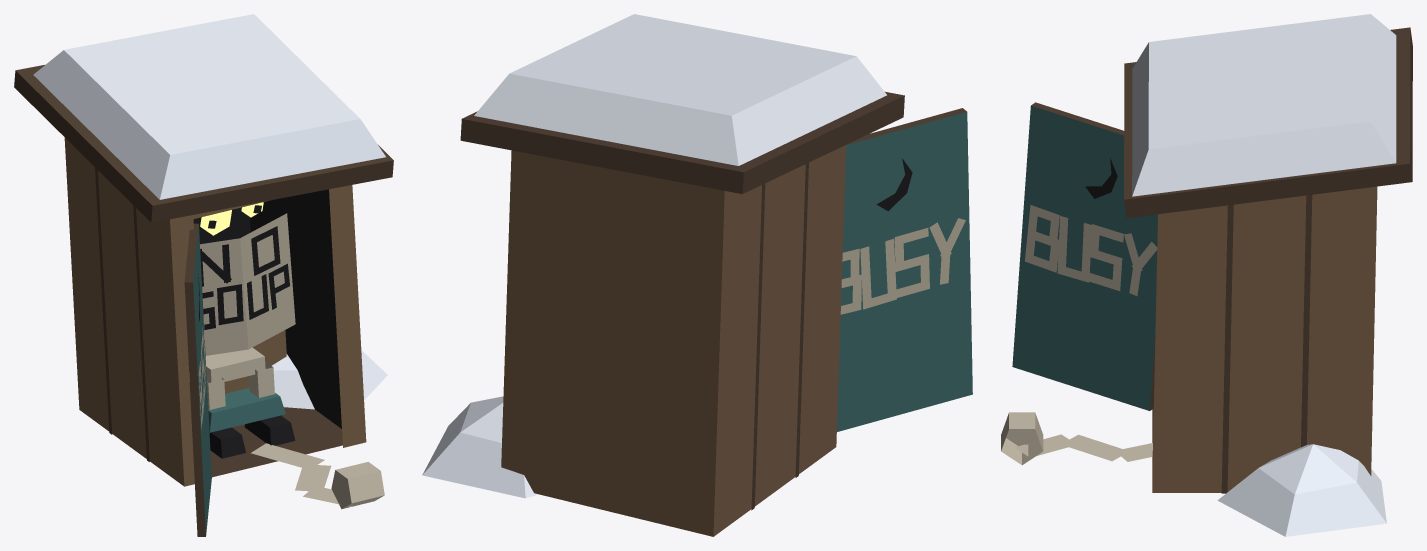
The model's file is gag_outhouse.glb.
The picture shows the model from 3 angles, left to right: view 1: azimuth 30°, elevation 25°; view 2: azimuth 150°, elevation 25°; view 3: azimuth 270°, elevation 25°; orthographic projection. The views are drawn at different scales.
Visible parts, largest first — view 1: Scenery; view 2: Scenery; view 3: Scenery.
Part boxes in pixels (x1,y1,x2,y2): Scenery: [14, 14, 393, 536]; Scenery: [422, 14, 972, 536]; Scenery: [1001, 14, 1412, 536].
Size of the model in its own units: 2.63 by 2.86 by 2.79.
